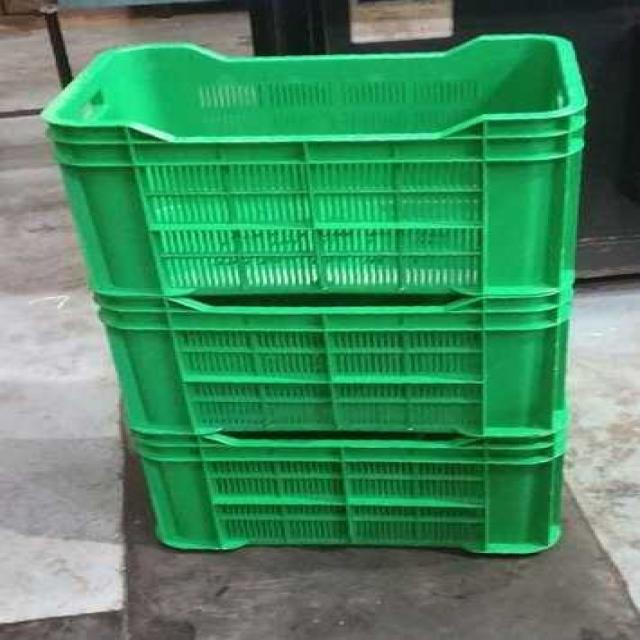basket: (39, 24, 587, 308), (95, 292, 569, 437), (131, 435, 564, 555)
